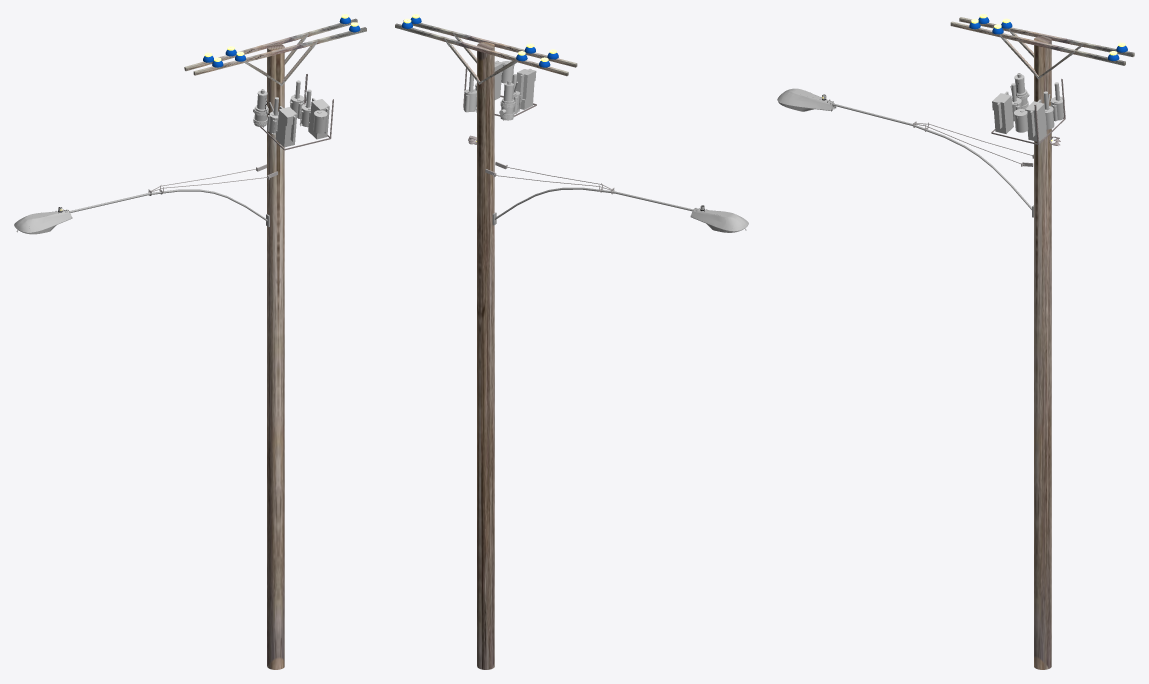
Rendered from odot_utility_pole.glb.
3 renders of one model, left to right at view 1: azimuth 30°, elevation 25°; view 2: azimuth 150°, elevation 25°; view 3: azimuth 330°, elevation 25°, orthographic.
Visible parts, largest first — view 1: Object_5, Object_113, Object_76, Object_6; view 2: Object_5, Object_113, Object_76, Object_6; view 3: Object_5, Object_113, Object_76, Object_6, Object_74.
Boxes of the visible parts, bbox=[...] form: Object_5: bbox=[267, 43, 284, 669]; Object_113: bbox=[184, 18, 366, 85]; Object_76: bbox=[267, 99, 306, 147]; Object_6: bbox=[69, 189, 269, 227]; Object_5: bbox=[477, 42, 494, 669]; Object_113: bbox=[395, 20, 577, 84]; Object_76: bbox=[474, 68, 536, 113]; Object_6: bbox=[492, 187, 693, 225]; Object_5: bbox=[1034, 36, 1051, 669]; Object_113: bbox=[950, 17, 1134, 77]; Object_76: bbox=[992, 91, 1057, 133]; Object_6: bbox=[832, 103, 1033, 217]; Object_74: bbox=[1027, 99, 1047, 141].
Bounding box in the file's own units: 2993 × 5220 × 667.
Materials: 20 (2 with a texture image).
